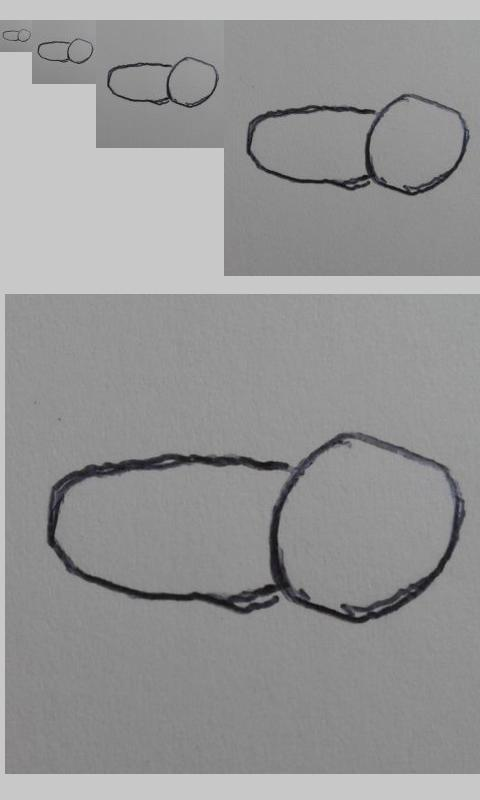switch: (44, 432, 467, 624), (245, 93, 471, 197), (106, 56, 220, 108), (37, 37, 94, 65), (2, 28, 32, 42)
